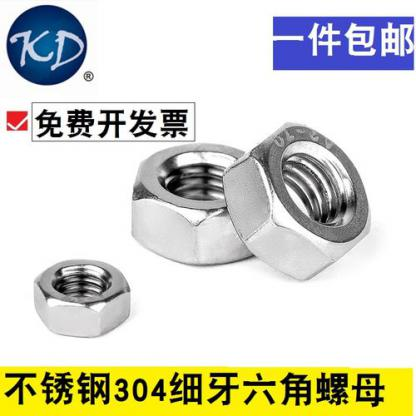FOD: (218, 118, 386, 286), (126, 136, 273, 268), (29, 258, 136, 336)
